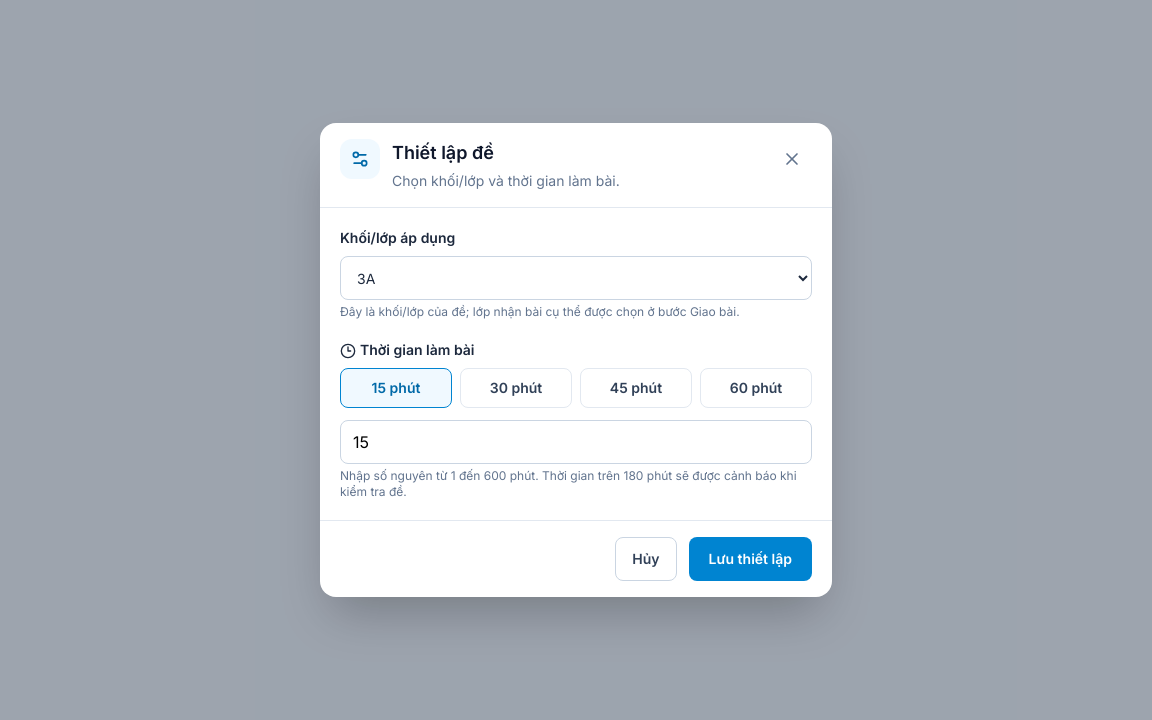
Test: QuizSettingsDialog › blocks invalid time
Replace the text in the number field labelled "Thời gian làm bài" with "0" at (576, 442), box [340, 420, 812, 464]
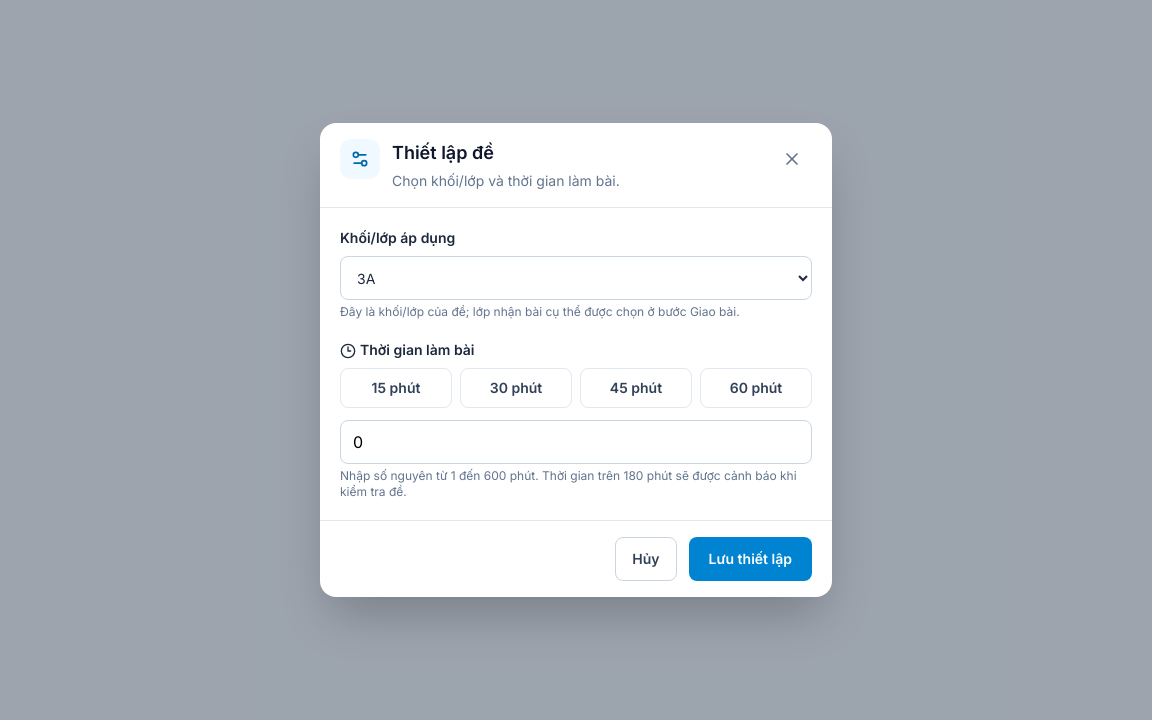
Click the button "Lưu thiết lập".
click(750, 559)  # box [688, 537, 812, 581]
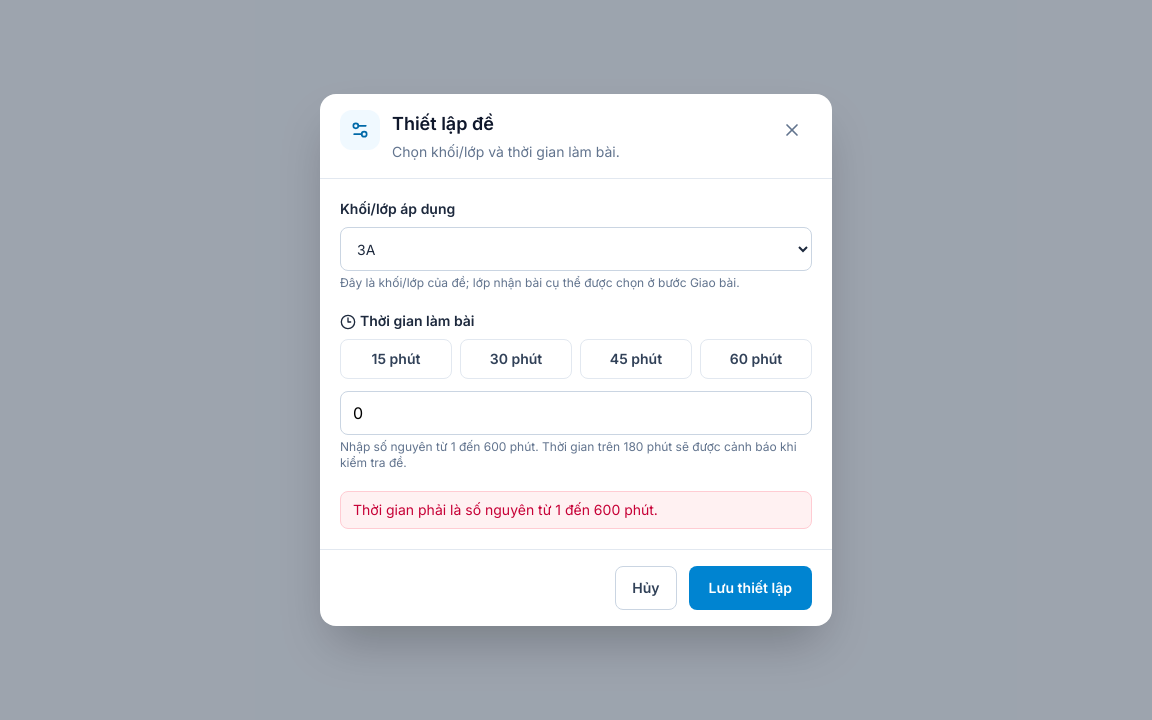
Result: the message "Thời gian phải là số nguyên từ 1 đến 600 phút." is shown at [340, 491, 812, 529]
